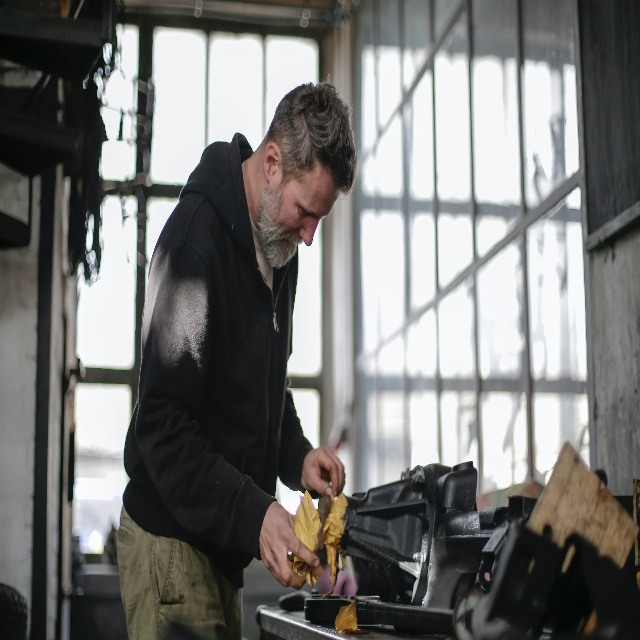Sin_guantes: (261, 498, 318, 587), (303, 447, 345, 497)
